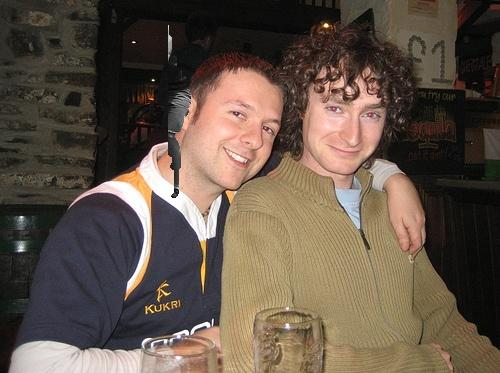tampered: (169, 26, 191, 198)
